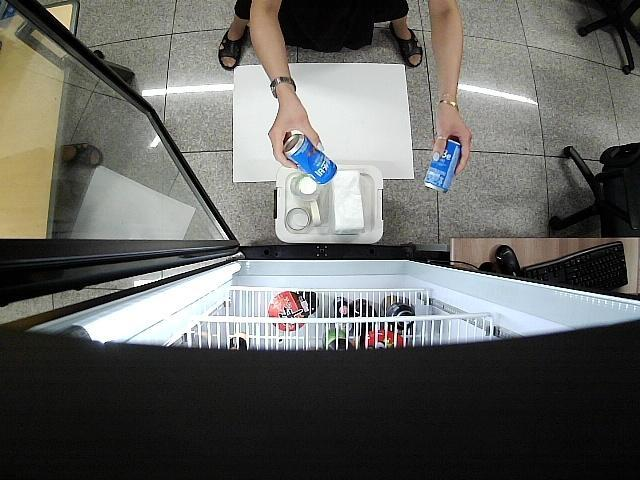15_letsbe: (281, 132, 339, 186), (423, 139, 462, 196)
